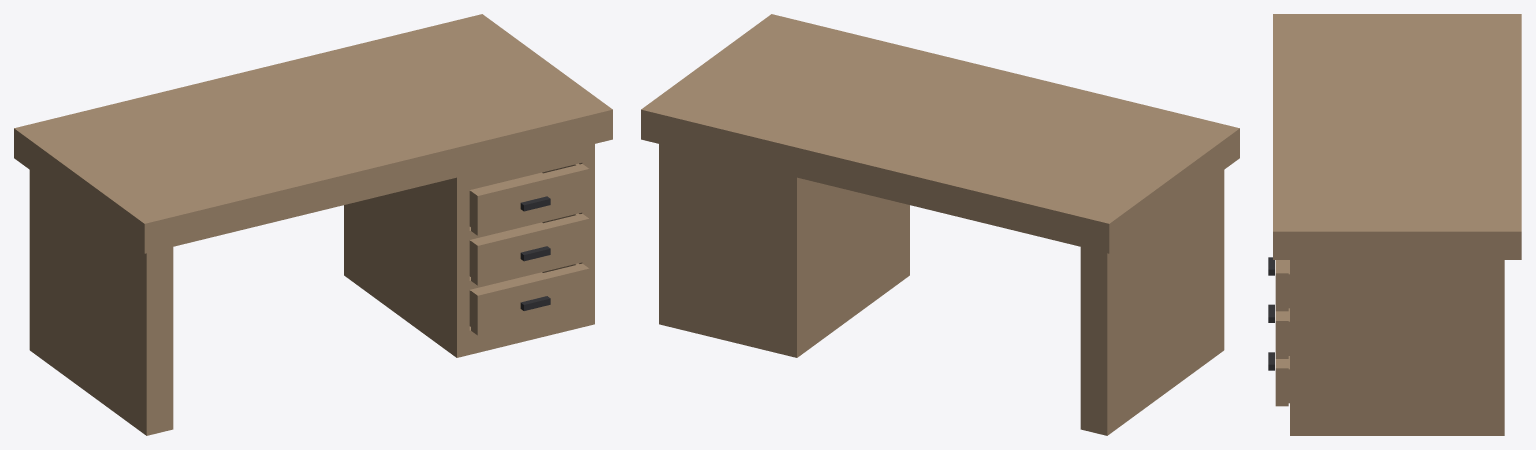
Rendered from 08_office_desk_2.glb.
3 views of the same model, side by side, from view 1: azimuth 30°, elevation 25°; view 2: azimuth 150°, elevation 25°; view 3: azimuth 270°, elevation 25° (orthographic). The views are drawn at different scales.
Parts seen in each view (by area): view 1: TableDestructible_Top.001, Top.001, Top.001_fragment_1, Top.001_fragment_3, Top.001_fragment_2, Panel, Panel_fragment_3, Cabinet_Drawer_1, Cabinet_Drawer_2, Cabinet, Cabinet_Drawer_3; view 2: TableDestructible_Top.001, Cabinet, Top.001, Top.001_fragment_1, Top.001_fragment_2, Panel_fragment_2, Top.001_fragment_3, Panel_fragment_3, Panel_fragment_1, Panel; view 3: TableDestructible_Top.001, Cabinet, Top.001, Top.001_fragment_2, Top.001_fragment_3, Top.001_fragment_1, Cabinet_Drawer_1, Cabinet_Drawer_2, Cabinet_Drawer_3.
Part boxes in pixels (bbox=[...]): TableDestructible_Top.001: bbox=[15, 14, 612, 430]; Top.001: bbox=[26, 17, 612, 253]; Top.001_fragment_1: bbox=[14, 93, 259, 250]; Top.001_fragment_3: bbox=[353, 14, 612, 161]; Top.001_fragment_2: bbox=[158, 46, 453, 222]; Panel: bbox=[40, 180, 171, 435]; Panel_fragment_3: bbox=[107, 229, 173, 435]; Cabinet_Drawer_1: bbox=[469, 264, 589, 335]; Cabinet_Drawer_2: bbox=[469, 213, 589, 284]; Cabinet: bbox=[457, 144, 594, 357]; Cabinet_Drawer_3: bbox=[469, 163, 588, 235]; TableDestructible_Top.001: bbox=[641, 14, 1238, 435]; Cabinet: bbox=[659, 144, 909, 357]; Top.001: bbox=[642, 14, 1213, 248]; Top.001_fragment_1: bbox=[965, 100, 1239, 253]; Top.001_fragment_2: bbox=[771, 53, 1124, 217]; Panel_fragment_2: bbox=[1132, 199, 1196, 394]; Top.001_fragment_3: bbox=[641, 14, 929, 170]; Panel_fragment_3: bbox=[1183, 170, 1224, 370]; Panel_fragment_1: bbox=[1107, 237, 1142, 373]; Panel: bbox=[1084, 248, 1215, 418]; TableDestructible_Top.001: bbox=[1268, 14, 1521, 435]; Cabinet: bbox=[1290, 260, 1504, 435]; Top.001: bbox=[1273, 14, 1521, 259]; Top.001_fragment_2: bbox=[1273, 68, 1521, 170]; Top.001_fragment_3: bbox=[1273, 169, 1521, 231]; Top.001_fragment_1: bbox=[1273, 14, 1521, 80]; Cabinet_Drawer_1: bbox=[1268, 352, 1289, 406]; Cabinet_Drawer_2: bbox=[1268, 304, 1289, 358]; Cabinet_Drawer_3: bbox=[1268, 257, 1289, 296].
Bounding box in the file's own units: 1.99 × 0.8909 × 0.9795.
